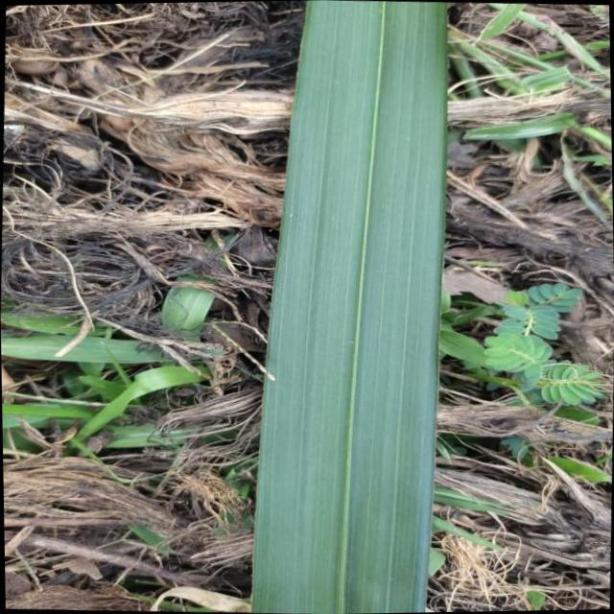Healthy: (257, 1, 452, 614)
